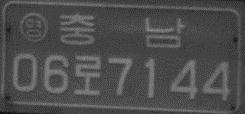0: (11, 52, 38, 93)
1: (136, 57, 165, 98)
4: (201, 60, 231, 101), (170, 58, 198, 99)
6: (42, 54, 70, 95)
7: (106, 56, 135, 96)
로: (73, 54, 102, 97)
영: (19, 12, 49, 42)
충남_D: (56, 11, 185, 49)
